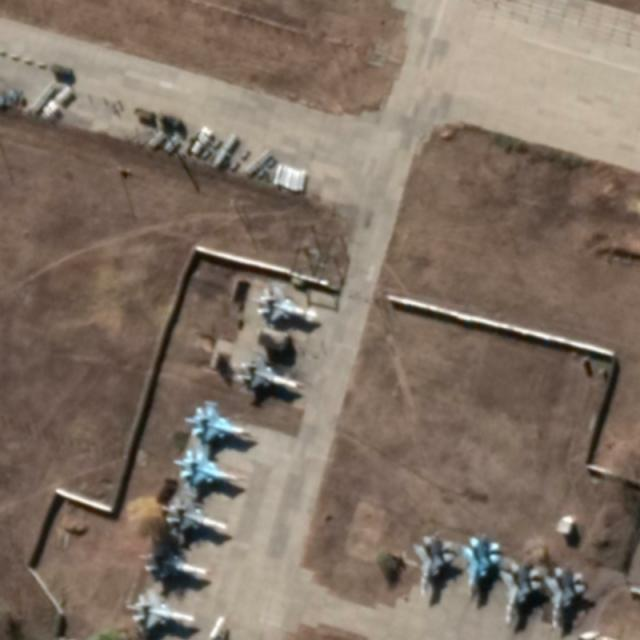fighter jet: (234, 354, 304, 402), (186, 401, 256, 447), (128, 588, 196, 634), (408, 531, 454, 599), (161, 496, 229, 541), (503, 557, 544, 628), (549, 566, 593, 630), (172, 448, 242, 488), (142, 543, 208, 584), (258, 284, 317, 329), (462, 530, 498, 603)
